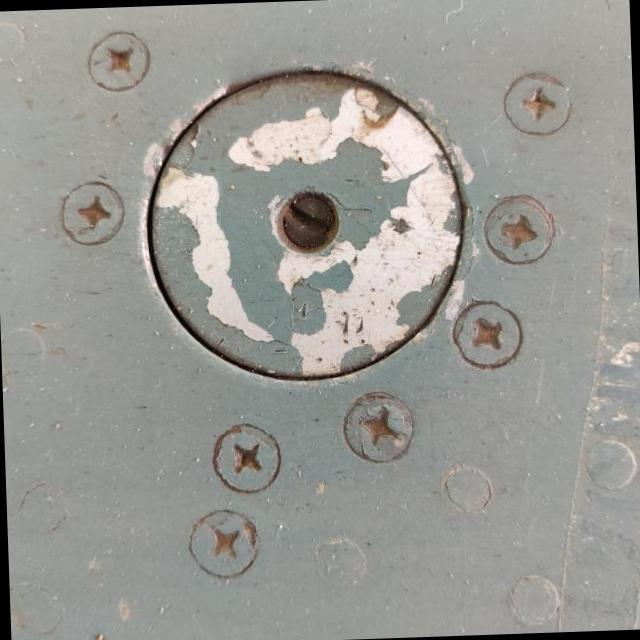Paint-off: (334, 156, 461, 340)
